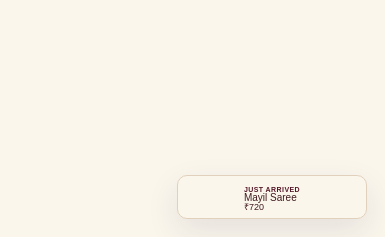
customer shopping flows › shows API arrivals and discounts without exposing coupon codes
Click the button "JUST ARRIVED Mayil Saree ₹720".
click(272, 197)  # box 177,175 -> 367,219
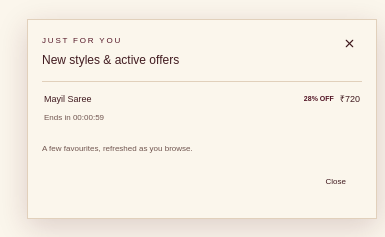
Check: the text "New styles & active offers" is shown, box 42,51 -> 179,71
Check: the text "28% OFF" is shown, box 304,93 -> 334,105
